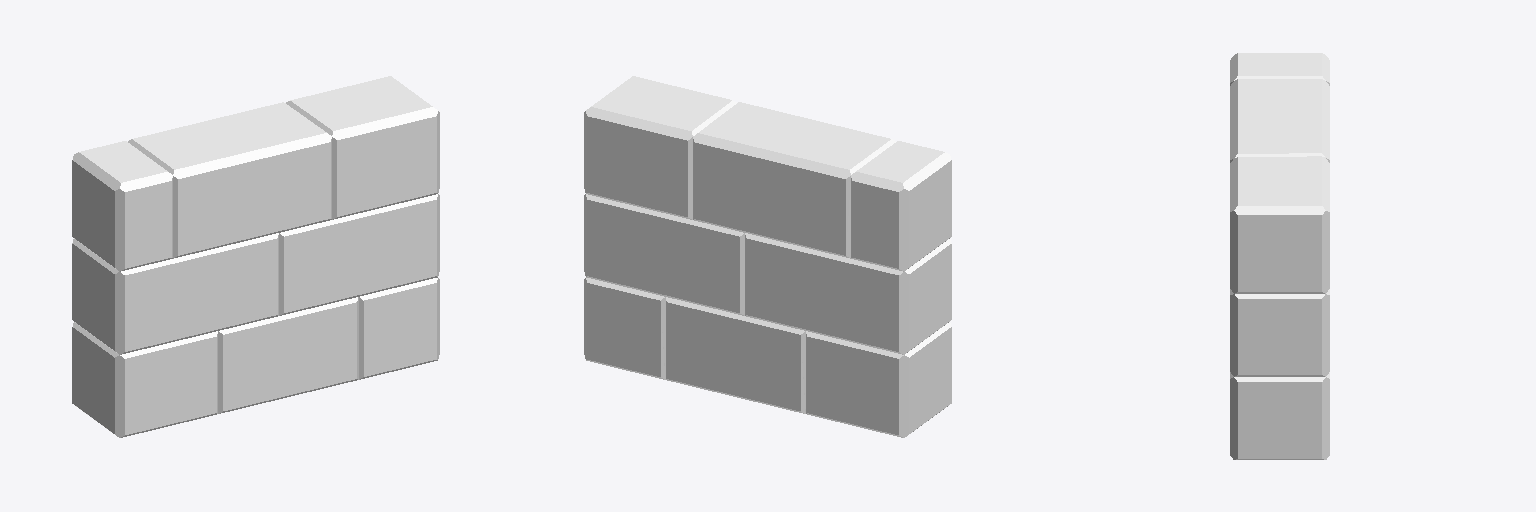
The model's file is Wall1_H0.5.obj.
The picture shows the model from 3 angles: view 1: azimuth 30°, elevation 25°; view 2: azimuth 150°, elevation 25°; view 3: azimuth 270°, elevation 25°; orthographic projection.
Visible parts, largest first — view 1: Box002; view 2: Box002; view 3: Box002.
Part boxes in pixels (left/top/right/bottom): Box002: left=72, top=76, right=439, bottom=437; Box002: left=584, top=76, right=951, bottom=437; Box002: left=1230, top=53, right=1329, bottom=459.
Bounding box in the file's own units: 2.04 × 1.52 × 0.54.